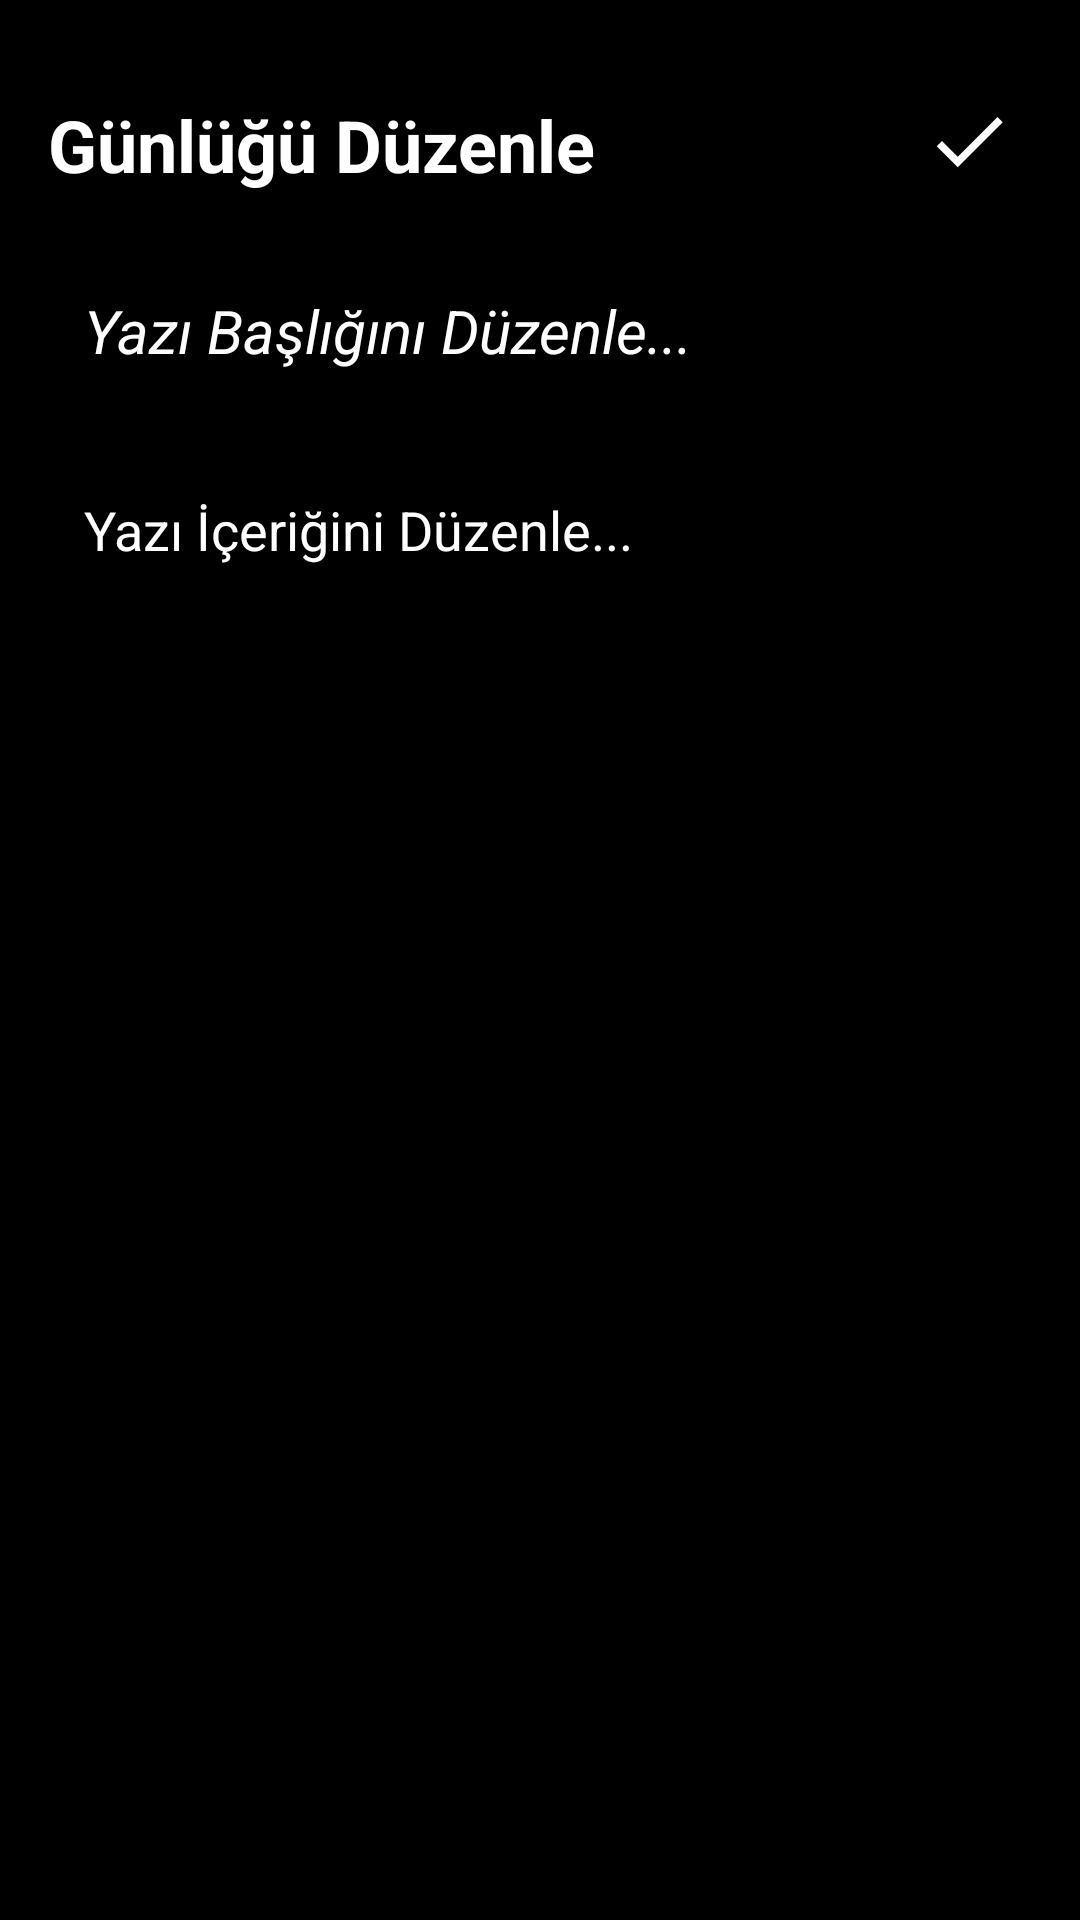

Screen size 1080px×1920px. Icon name, then its center in pixels as (x=x, y=y):
done: (x=970, y=142)
